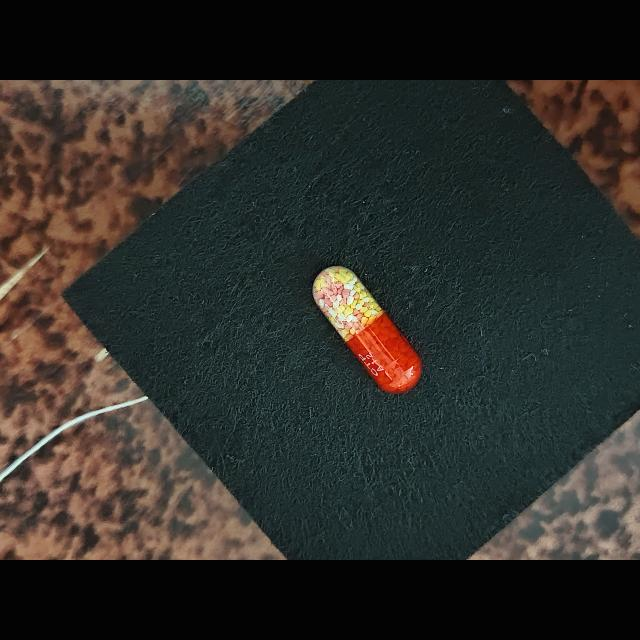Intact Capsule: (312, 266, 422, 393)
